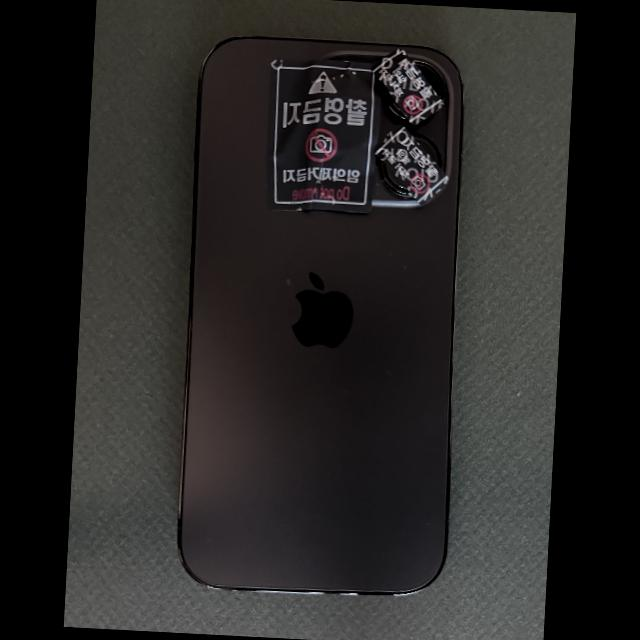lens: (413, 61, 443, 100), (381, 164, 411, 197)
phone: (178, 38, 461, 593)
sticker: (267, 59, 383, 214), (373, 124, 450, 206), (370, 48, 444, 126)
